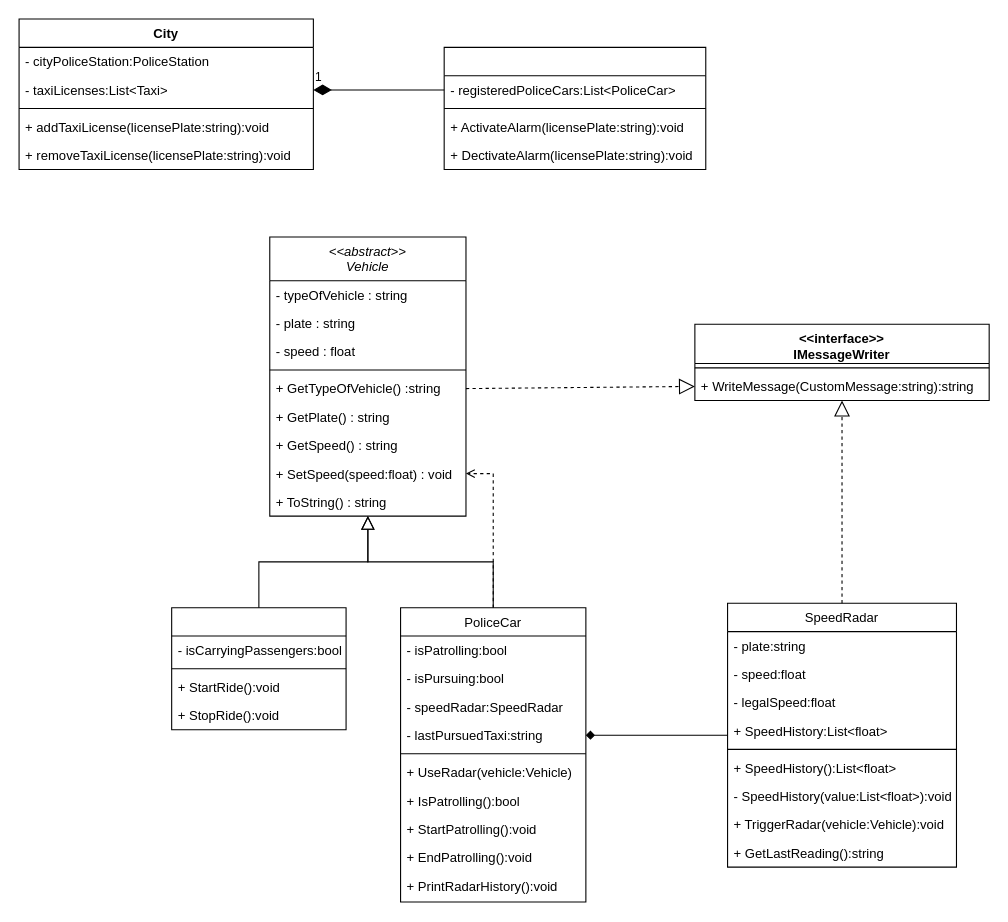
The diagram is 1008 pixels wide and 922 high, and some of its shapes have lost their labels. The box of each missing label's shape, as (x1, y1, x2, y2) in pixels:
PoliceStation: (443, 46, 706, 169)
Taxi: (171, 607, 346, 730)
